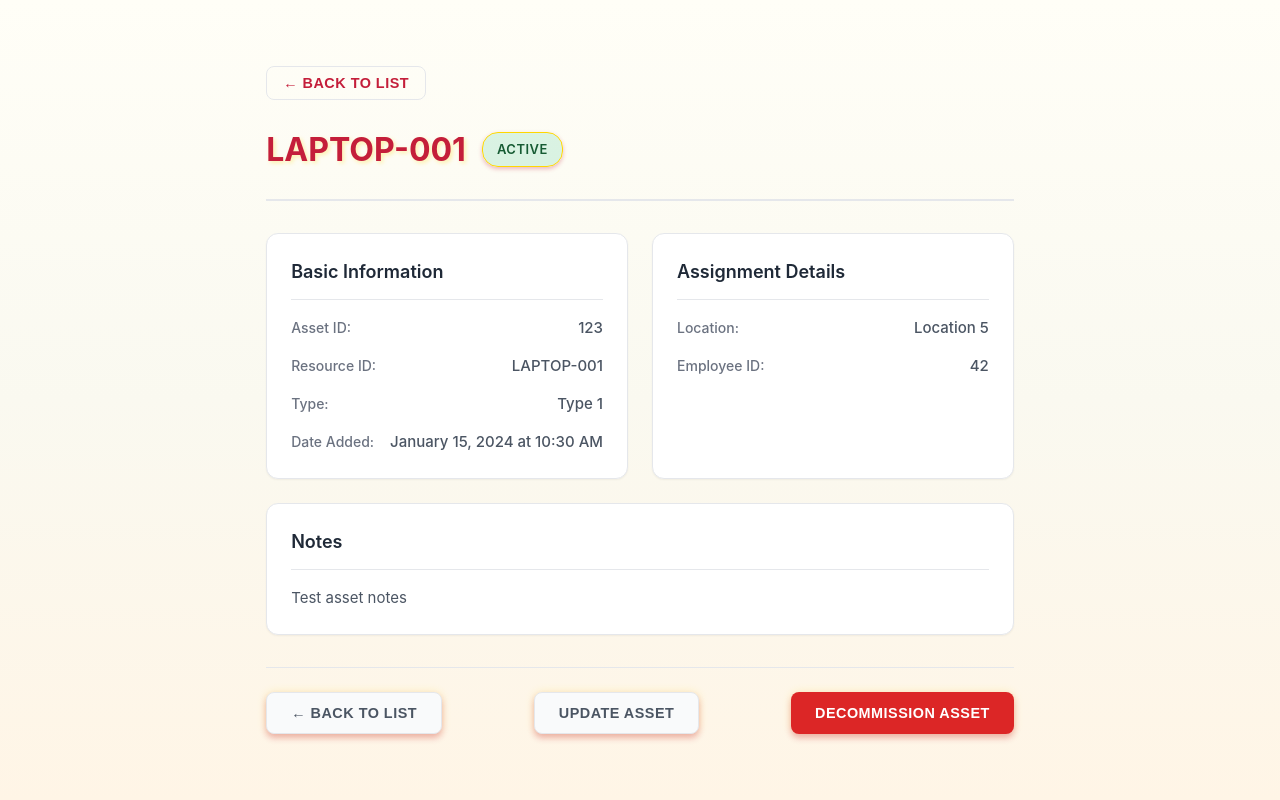
Scenario: AssetView › disables decommission button while decommissioning
The image size is (1280, 800).
Click the button with class "btn-danger": (902, 713) [791,692,1014,734]
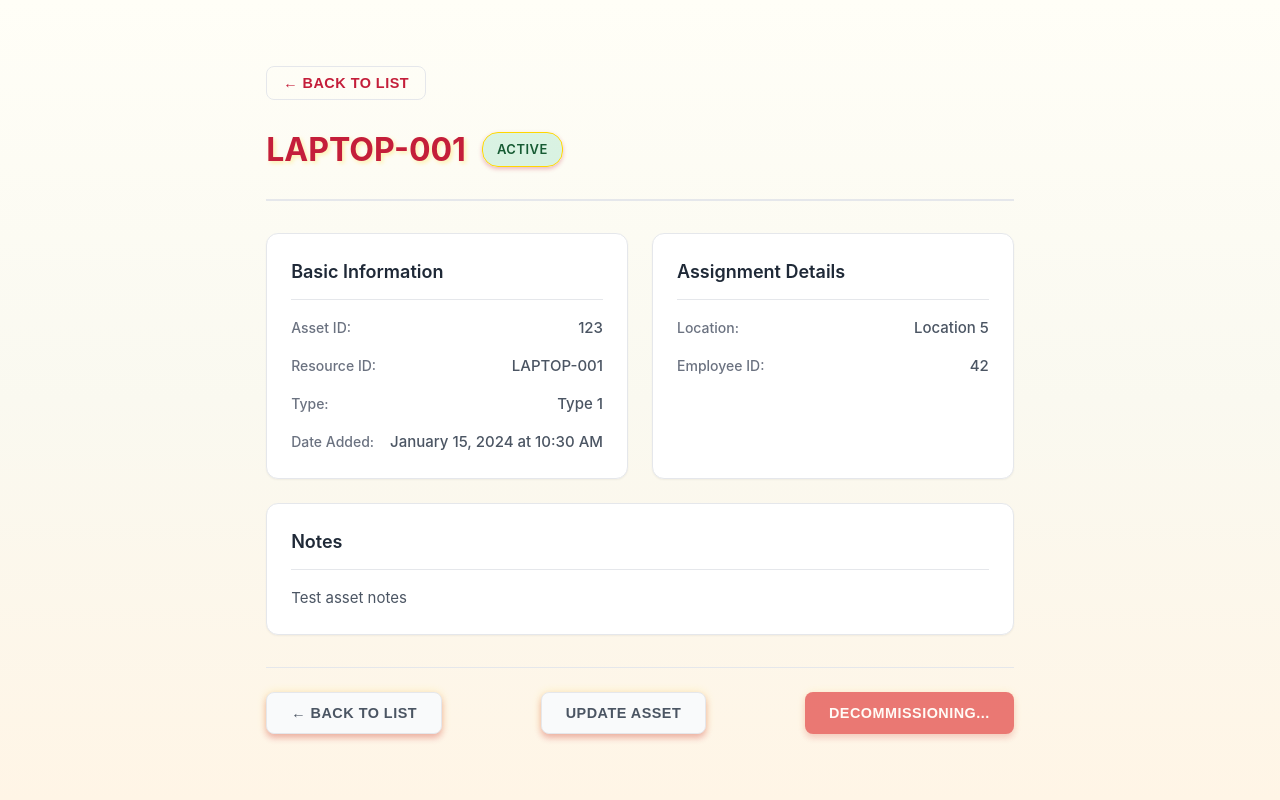
Now the button with class "btn-danger" is disabled, box [805,692,1014,734]
